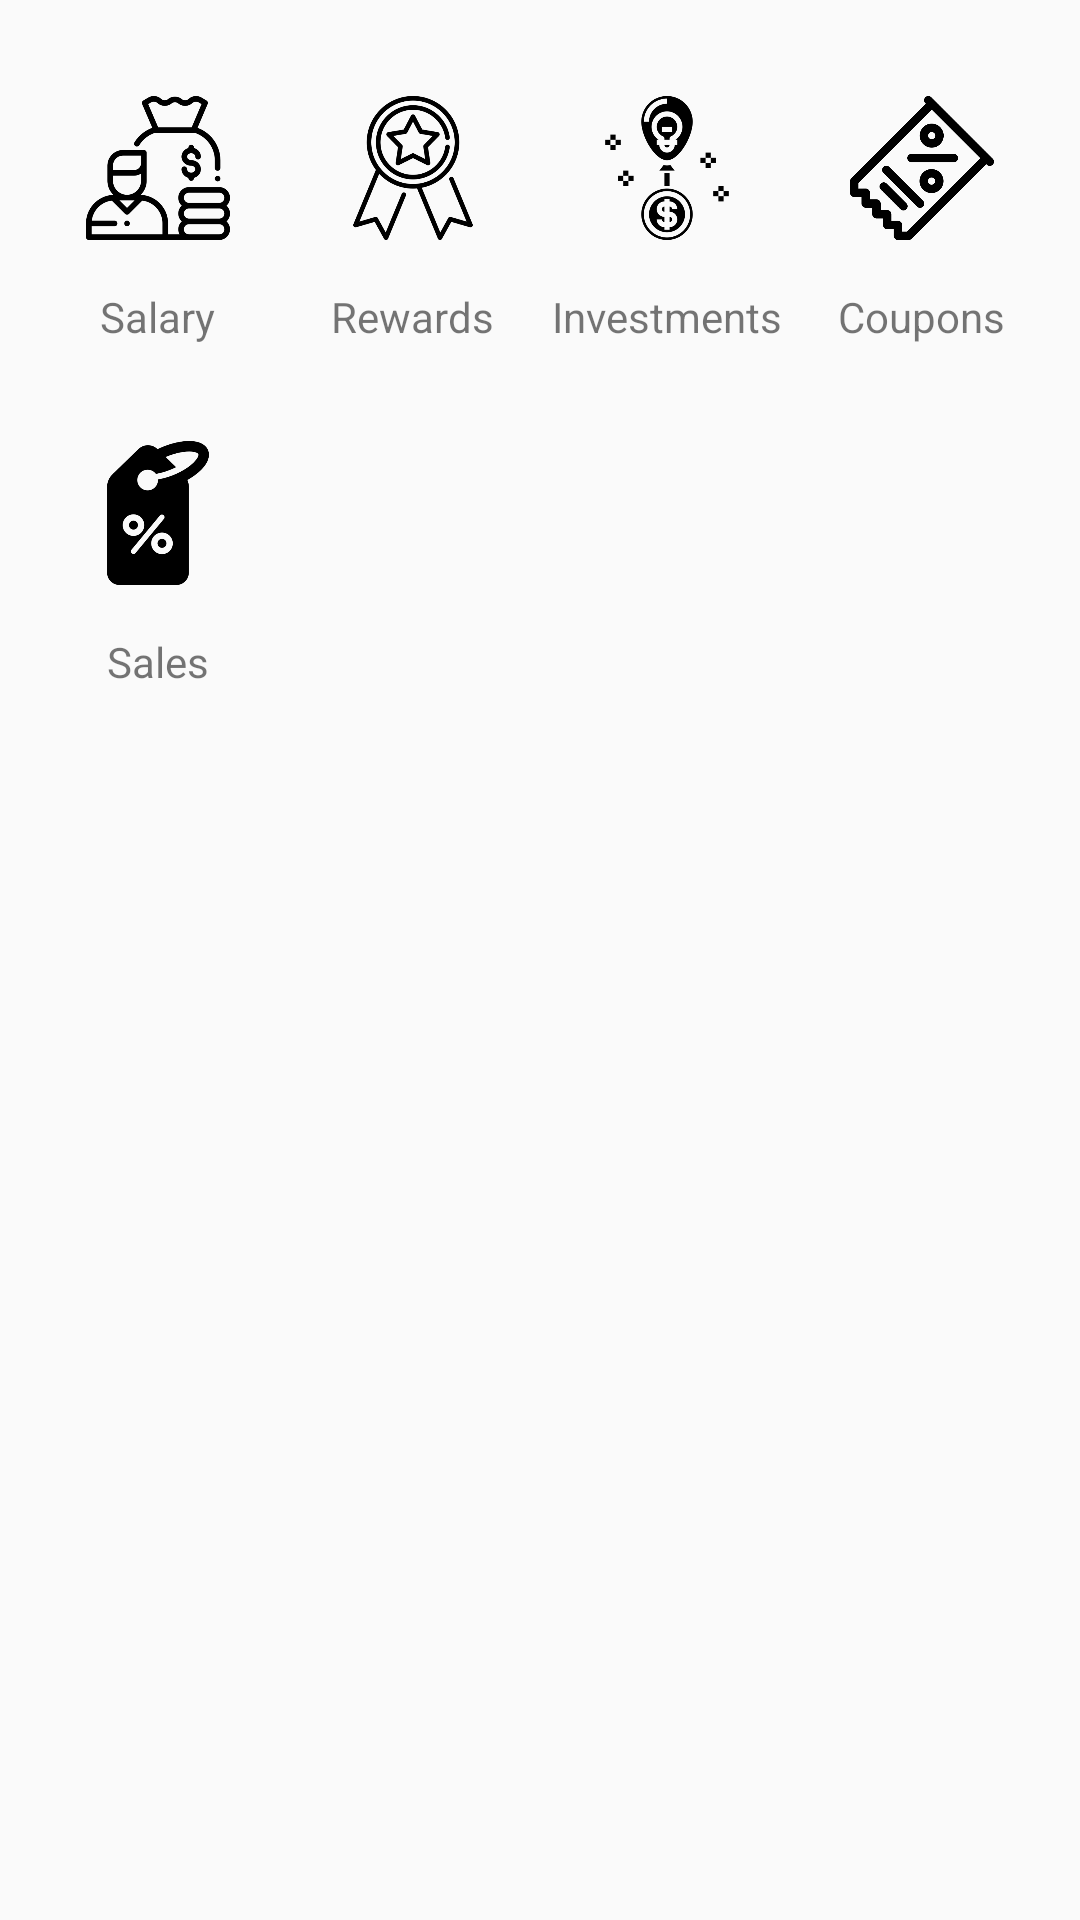

Icon bounding boxes for this 1080 x 1920 phone screenshot, format (x1, y1, x2, y2):
idea: (605, 96, 729, 240)
quality: (353, 96, 473, 240)
tag: (107, 441, 209, 585)
